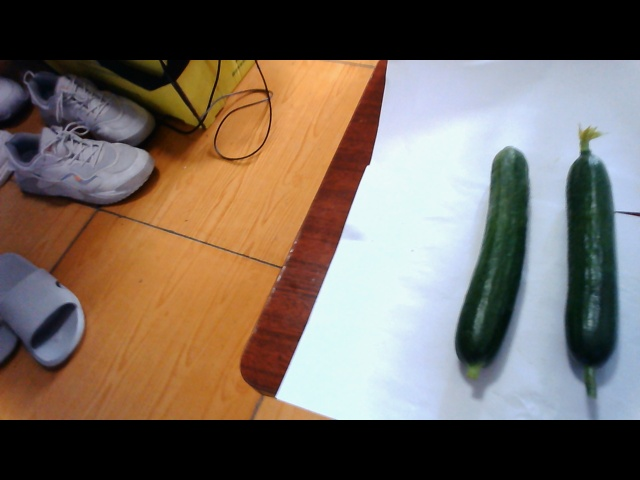cucumber: (453, 140, 538, 386), (555, 149, 622, 391)
